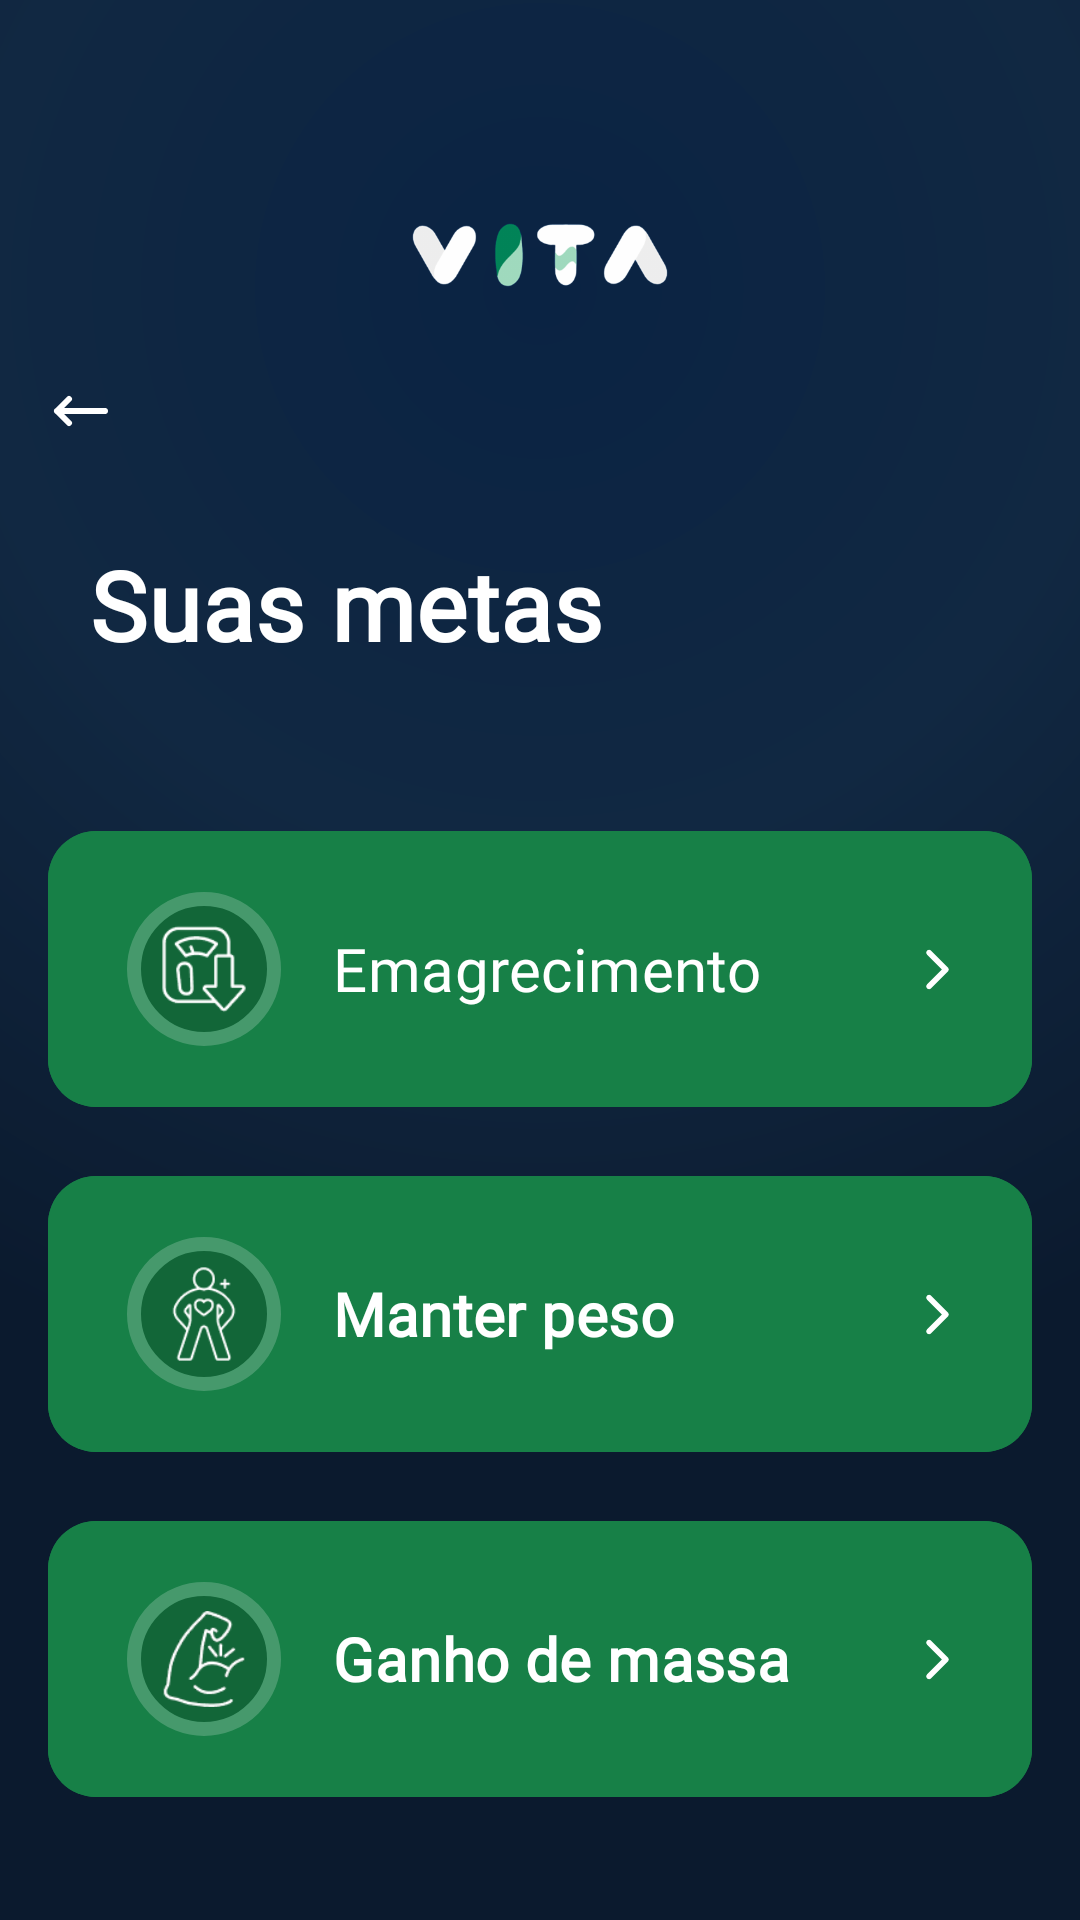

Screen size 1080x1920. Icon name, then its box in pixels as (x1, y1, x2, y2):
arrow: (54, 396, 108, 426)
next: (926, 949, 949, 990), (926, 1294, 949, 1335), (926, 1639, 949, 1680)
